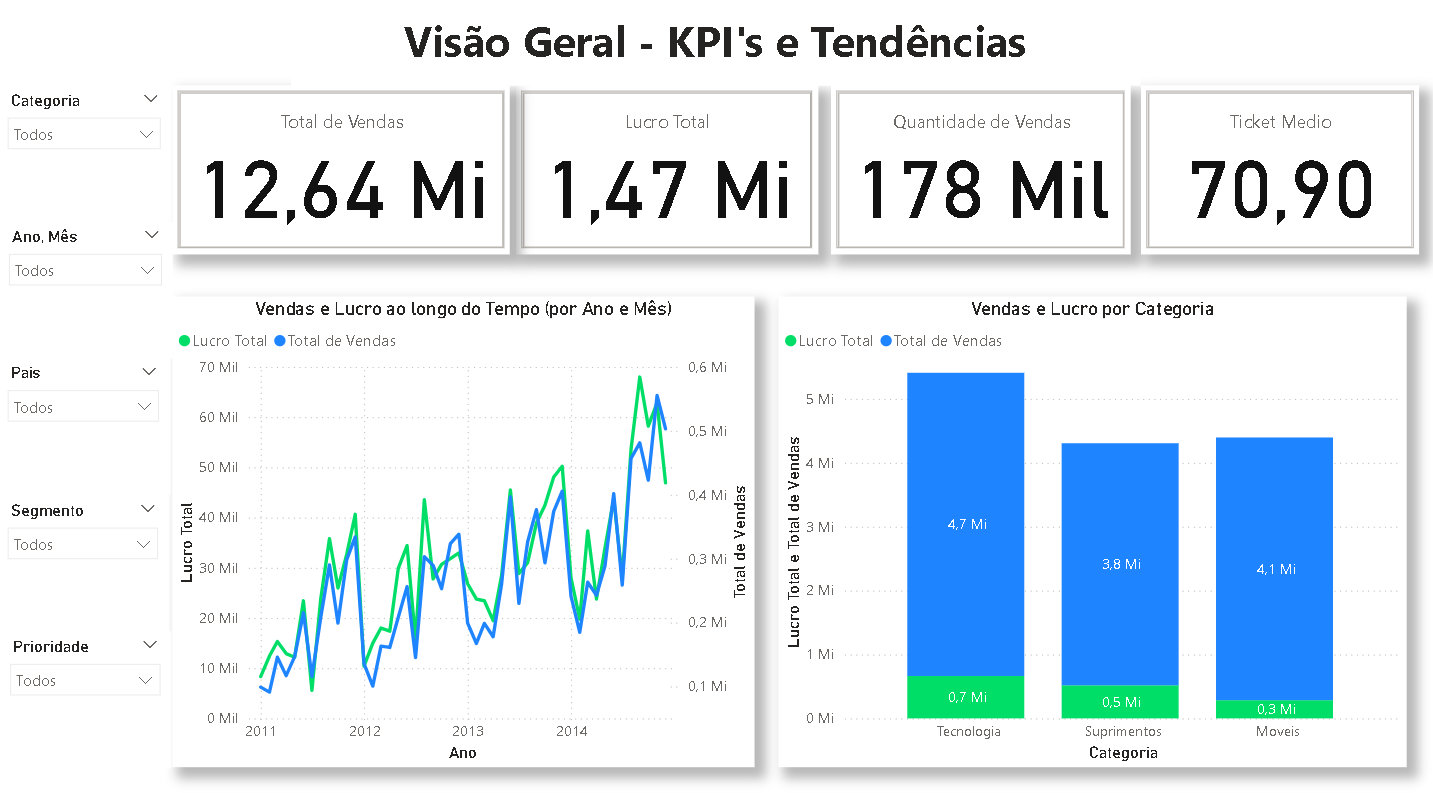

What the dashboard file says about the page in this screenshot:
{"tool":"powerbi","page":{"name":"KPIS e Tendências","canvas":[1280,720],"ordinal":0},"visuals":[{"type":"cardVisual","fields":{"Data":["Sum(dataset (2).Lucro)"]},"box":[462.5,81.2,268.8,150],"z":0},{"type":"cardVisual","fields":{"Data":["Sum(dataset (2).Total_Vendas)"]},"box":[156.2,81.2,300,150],"z":1000},{"type":"cardVisual","fields":{"Data":["Sum(dataset (2).Quantidade)"]},"box":[742.5,81.2,266.2,150],"z":2000},{"type":"cardVisual","fields":{"Data":["dataset (2).TicketMedio"]},"box":[1017.5,81.2,247.5,150],"z":3000},{"type":"textbox","box":[262.5,11.2,755,70],"z":4000},{"type":"lineChart","title":"Vendas e Lucro ao longo do Tempo (por Ano e Mês)","fields":{"Category":["dataset (2).Data_Pedido.Variation.Hierarquia de datas.Ano","dataset (2).Data_Pedido.Variation.Hierarquia de datas.Mês"],"Y":["Sum(dataset (2).Lucro)"],"Y2":["Sum(dataset (2).Total_Vendas)"]},"box":[156.2,268.8,517.5,418.8],"z":5000},{"type":"columnChart","title":"Vendas e Lucro por Categoria","fields":{"Category":["dataset (2).Categoria"],"Y":["Sum(dataset (2).Lucro)","Sum(dataset (2).Total_Vendas)"]},"box":[695,268.8,558.8,418.8],"z":6000},{"type":"slicer","fields":{"Values":["dataset (2).Categoria"]},"box":[0,81.2,156.2,121],"z":7000},{"type":"slicer","fields":{"Values":["dataset (2).Data_Pedido.Variation.Hierarquia de datas.Ano","dataset (2).Data_Pedido.Variation.Hierarquia de datas.Mês"]},"box":[1.2,202.5,156.2,121.2],"z":8000},{"type":"slicer","fields":{"Values":["dataset (2).Pais"]},"box":[0,323.8,155,121.2],"z":9000},{"type":"slicer","fields":{"Values":["dataset (2).Segmento"]},"box":[0,445,153.8,121.2],"z":10000},{"type":"slicer","fields":{"Values":["dataset (2).Prioridade"]},"box":[2.5,566.2,153.8,121.2],"z":11000}]}

Visuals, with their boxes in screenshot pixels (x1, y1, x2, y2), scaled from the page's 1280x720 canvas onto the 1433x793 screenshot:
cardVisual - Sum(dataset (2).Lucro): (518, 89, 819, 255)
cardVisual - Sum(dataset (2).Total_Vendas): (175, 89, 511, 255)
cardVisual - Sum(dataset (2).Quantidade): (831, 89, 1129, 255)
cardVisual - dataset (2).TicketMedio: (1139, 89, 1416, 255)
textbox: (294, 12, 1139, 89)
"Vendas e Lucro ao longo do Tempo (por Ano e Mês)" lineChart: (175, 296, 754, 757)
"Vendas e Lucro por Categoria" columnChart: (778, 296, 1404, 757)
slicer - dataset (2).Categoria: (0, 89, 175, 223)
slicer - dataset (2).Data_Pedido.Variation.Hierarquia de datas.Ano x dataset (2).Data_Pedido.Variation.Hierarquia de datas.Mês: (1, 223, 176, 357)
slicer - dataset (2).Pais: (0, 357, 174, 490)
slicer - dataset (2).Segmento: (0, 490, 172, 624)
slicer - dataset (2).Prioridade: (3, 624, 175, 757)
